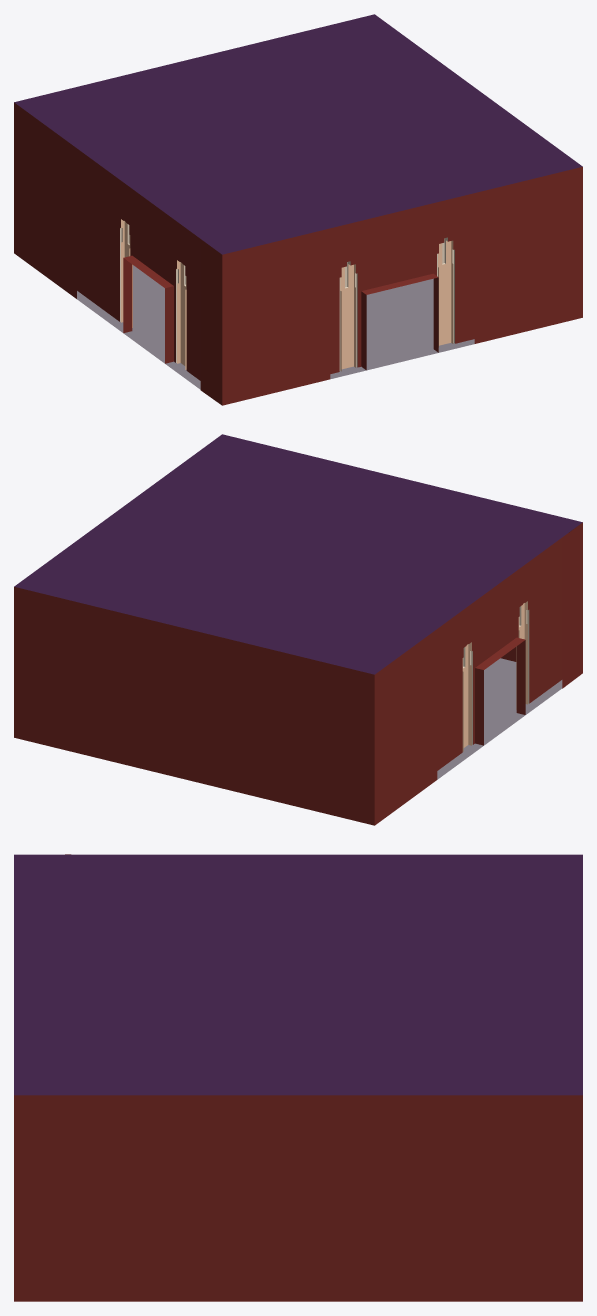
The model's file is monster_room.dae.
The picture shows the model from 3 angles, top to bottom: view 1: azimuth 30°, elevation 25°; view 2: azimuth 150°, elevation 25°; view 3: azimuth 270°, elevation 25°; orthographic projection. The views are drawn at different scales.
Parts seen in each view (by area): view 1: $dummy_node (×5); view 2: $dummy_node (×4); view 3: $dummy_node (×2).
Boxes of the visible parts, x1,y1,x2,y2 form: $dummy_node (×5): (14,14,582,405); $dummy_node (×4): (14,434,582,825); $dummy_node (×2): (14,854,582,1301).
Bounding box in the file's own units: 20.03 × 8 × 20.
